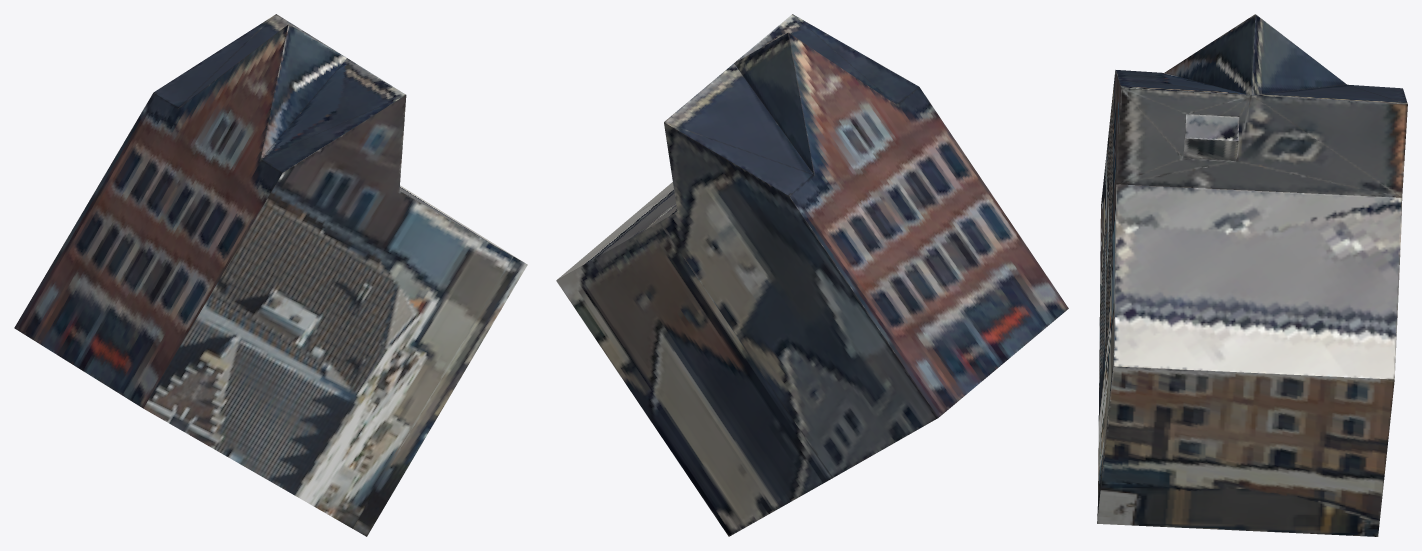
3 renders of one model, left to right at view 1: azimuth 30°, elevation 25°; view 2: azimuth 150°, elevation 25°; view 3: azimuth 270°, elevation 25°, orthographic. The views are drawn at different scales.
Parts seen in each view (by area): view 1: BAG_0599100000671723 (×3); view 2: BAG_0599100000671723 (×3); view 3: BAG_0599100000671723 (×5).
Part boxes in pixels (x1,y1,x2,y2): BAG_0599100000671723 (×3): (14,14,527,536); BAG_0599100000671723 (×3): (556,14,1068,536); BAG_0599100000671723 (×5): (1097,14,1407,536).
Size of the model in its own units: 20.84 by 24.19 by 13.09.
5 materials, 5 textured.
